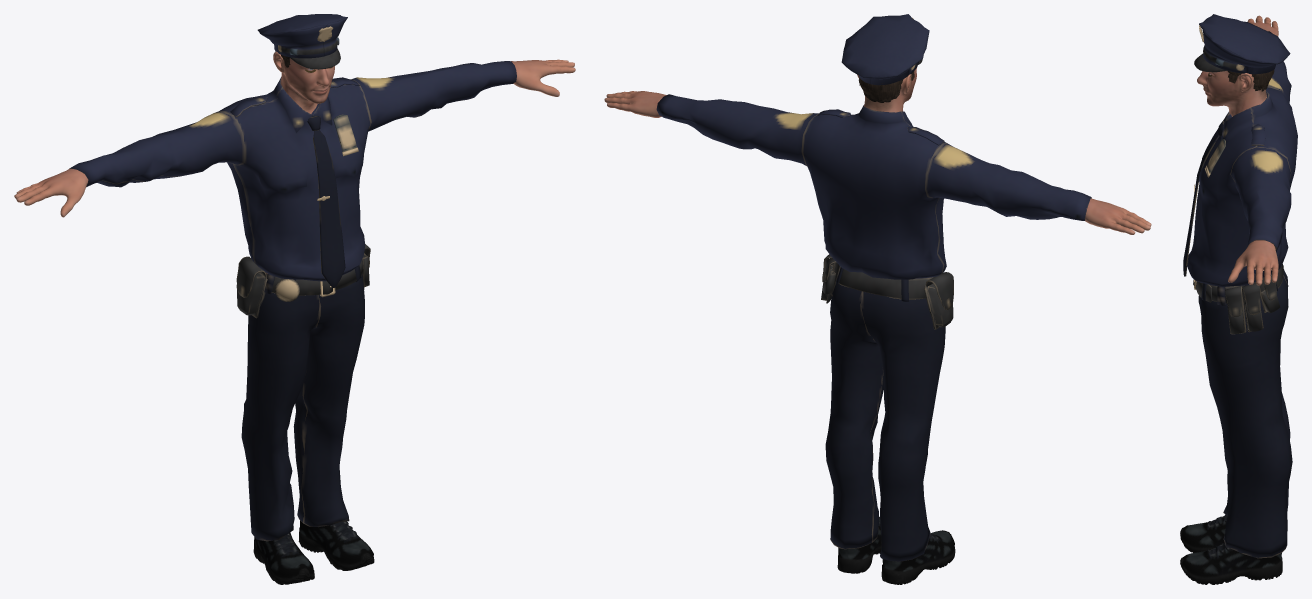
3 renders of one model, left to right at view 1: azimuth 30°, elevation 25°; view 2: azimuth 150°, elevation 25°; view 3: azimuth 270°, elevation 25°, orthographic. The views are drawn at different scales.
Parts seen in each view (by area): view 1: Tops, Bottoms, Body, Shoes, Hats; view 2: Tops, Bottoms, Hats, Body, Shoes, Hair; view 3: Bottoms, Tops, Hats, Shoes, Body, Hair.
Boxes of the visible parts, x1,y1,x2,y2 form: Tops: [69, 61, 516, 287]; Bottoms: [236, 244, 370, 541]; Body: [14, 51, 575, 273]; Shoes: [253, 520, 374, 584]; Hats: [257, 14, 347, 69]; Tops: [656, 94, 1091, 279]; Bottoms: [821, 254, 953, 561]; Hats: [841, 14, 929, 85]; Body: [604, 68, 1151, 234]; Shoes: [837, 516, 955, 584]; Hair: [858, 71, 914, 102]; Bottoms: [1193, 264, 1292, 558]; Tops: [1183, 31, 1297, 286]; Hats: [1194, 14, 1290, 74]; Shoes: [1180, 515, 1282, 584]; Body: [1197, 15, 1278, 285]; Hair: [1227, 69, 1274, 91].
Bounding box in the file's own units: 194 × 183 × 36.17.
Materials: 1 (1 with a texture image).
